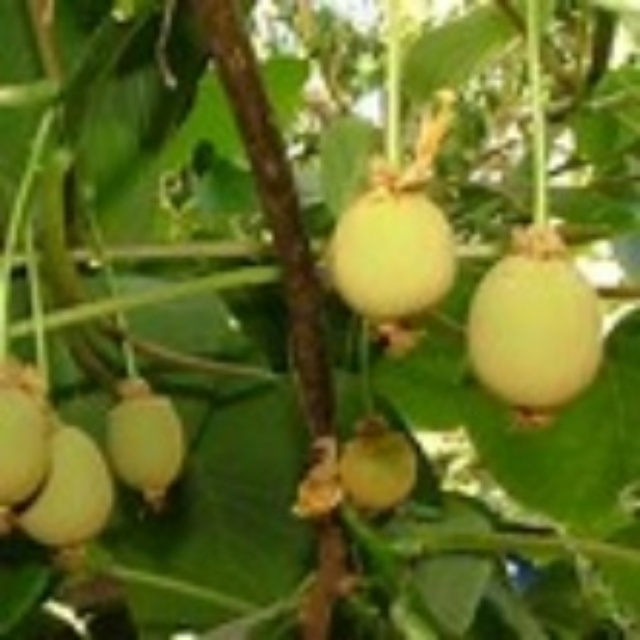kiwi: (3, 383, 186, 560), (326, 168, 456, 358), (469, 240, 598, 425), (308, 408, 426, 535)
